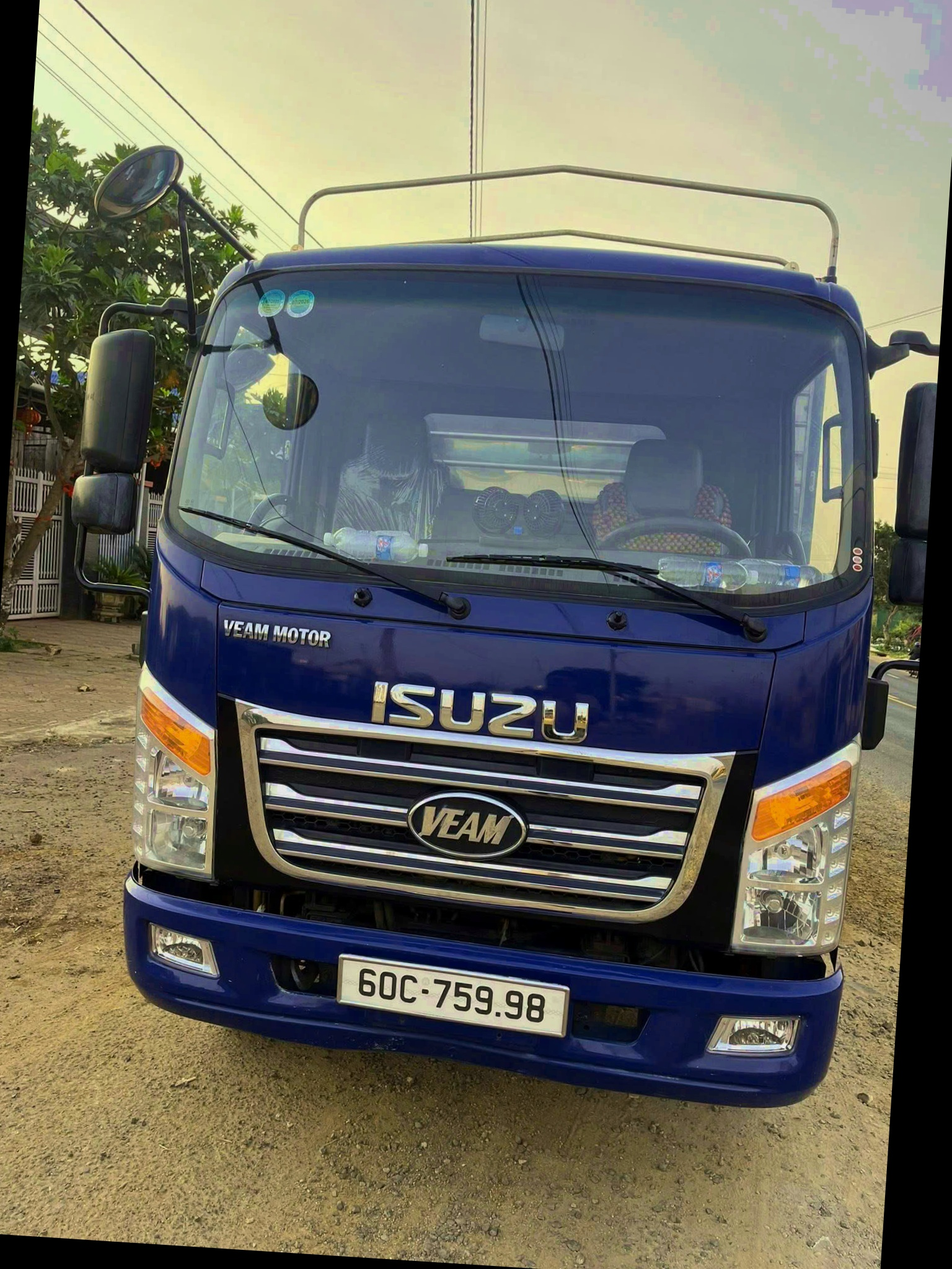Bien-so: (338, 939, 592, 1019)
